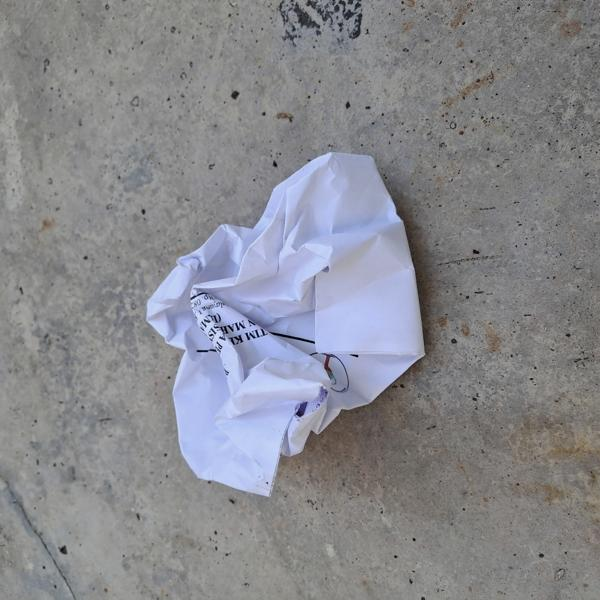Organik: (134, 134, 437, 521)
